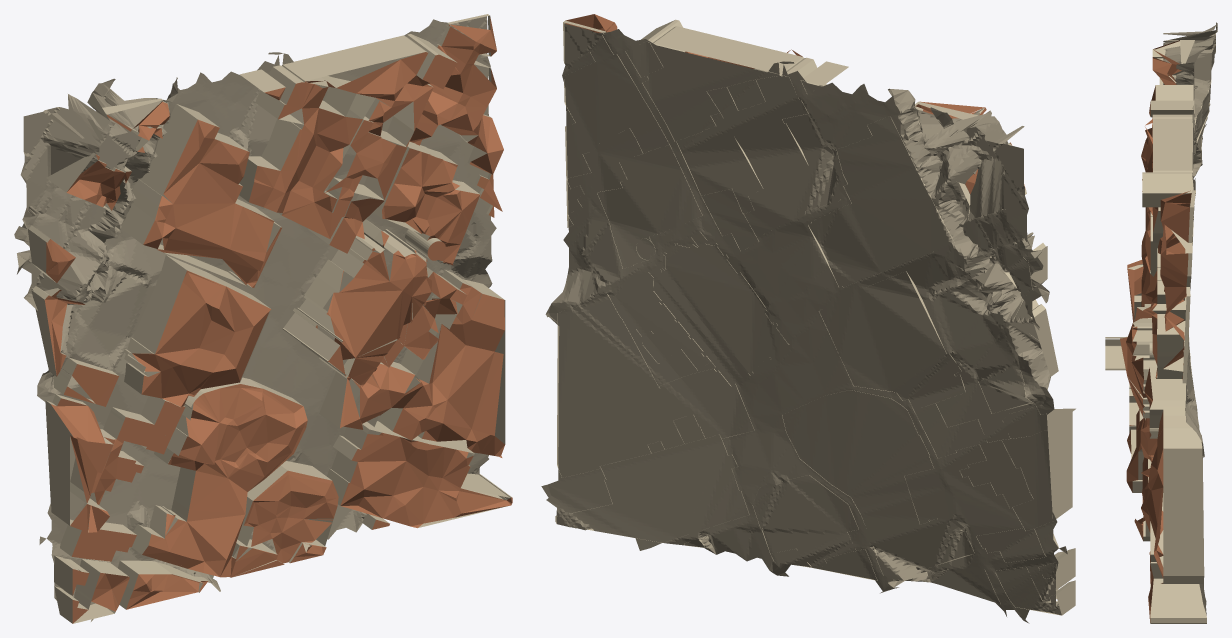
Rendered from santa_maria_v0_2.obj.
3 views of the same model, side by side, from view 1: azimuth 30°, elevation 25°; view 2: azimuth 150°, elevation 25°; view 3: azimuth 270°, elevation 25° (orthographic). The views are drawn at different scales.
Visible parts, largest first — view 1: Terreno_interpolado, Edificio_12_cubierta, Edificio_34_cubierta, Edificio_11_cubierta, Edificio_10_cubierta, Edificio_33_cubierta, Edificio_09_cubierta, Edificio_32_cubierta, Edificio_31_cubierta, Edificio_30_cubierta, Edificio_29_cubierta, Edificio_09_fachadas (+36 smaller); view 2: Terreno_interpolado, Edificio_28_fachadas, Edificio_24_fachadas, Edificio_06_fachadas; view 3: Edificio_34_fachadas, Terreno_interpolado, Edificio_31_cubierta, Edificio_33_fachadas, Edificio_28_fachadas, Edificio_34_cubierta, Edificio_09_fachadas, Edificio_30_fachadas, Edificio_17_fachadas, Edificio_25_fachadas, Edificio_09_cubierta, Edificio_31_fachadas (+20 smaller).
Boxes of the visible parts, x1=… form: Terreno_interpolado: x1=14, y1=16, x2=496, y2=621; Edificio_12_cubierta: x1=142, y1=384, x2=307, y2=577; Edificio_34_cubierta: x1=340, y1=283, x2=504, y2=457; Edificio_11_cubierta: x1=143, y1=119, x2=281, y2=287; Edificio_10_cubierta: x1=132, y1=270, x2=271, y2=406; Edificio_33_cubierta: x1=340, y1=432, x2=512, y2=527; Edificio_09_cubierta: x1=316, y1=231, x2=431, y2=386; Edificio_32_cubierta: x1=249, y1=82, x2=362, y2=238; Edificio_31_cubierta: x1=410, y1=17, x2=503, y2=174; Edificio_30_cubierta: x1=382, y1=148, x2=480, y2=265; Edificio_29_cubierta: x1=244, y1=470, x2=338, y2=563; Edificio_09_fachadas: x1=282, y1=219, x2=426, y2=384; Terreno_interpolado: x1=541, y1=23, x2=1067, y2=623; Edificio_28_fachadas: x1=642, y1=26, x2=803, y2=141; Edificio_24_fachadas: x1=1002, y1=412, x2=1072, y2=527; Edificio_06_fachadas: x1=1014, y1=299, x2=1058, y2=376; Edificio_34_fachadas: x1=1151, y1=406, x2=1204, y2=583; Terreno_interpolado: x1=1163, y1=22, x2=1217, y2=615; Edificio_31_cubierta: x1=1158, y1=190, x2=1191, y2=340; Edificio_33_fachadas: x1=1150, y1=465, x2=1206, y2=623; Edificio_28_fachadas: x1=1153, y1=118, x2=1193, y2=242; Edificio_34_cubierta: x1=1140, y1=411, x2=1163, y2=583; Edificio_09_fachadas: x1=1105, y1=304, x2=1189, y2=418; Edificio_30_fachadas: x1=1152, y1=248, x2=1192, y2=378; Edificio_17_fachadas: x1=1142, y1=172, x2=1193, y2=207; Edificio_25_fachadas: x1=1149, y1=367, x2=1186, y2=438; Edificio_09_cubierta: x1=1120, y1=306, x2=1155, y2=416; Edificio_31_fachadas: x1=1166, y1=190, x2=1195, y2=340.
Bounding box in the file's own units: 159 × 160 × 36.67.
